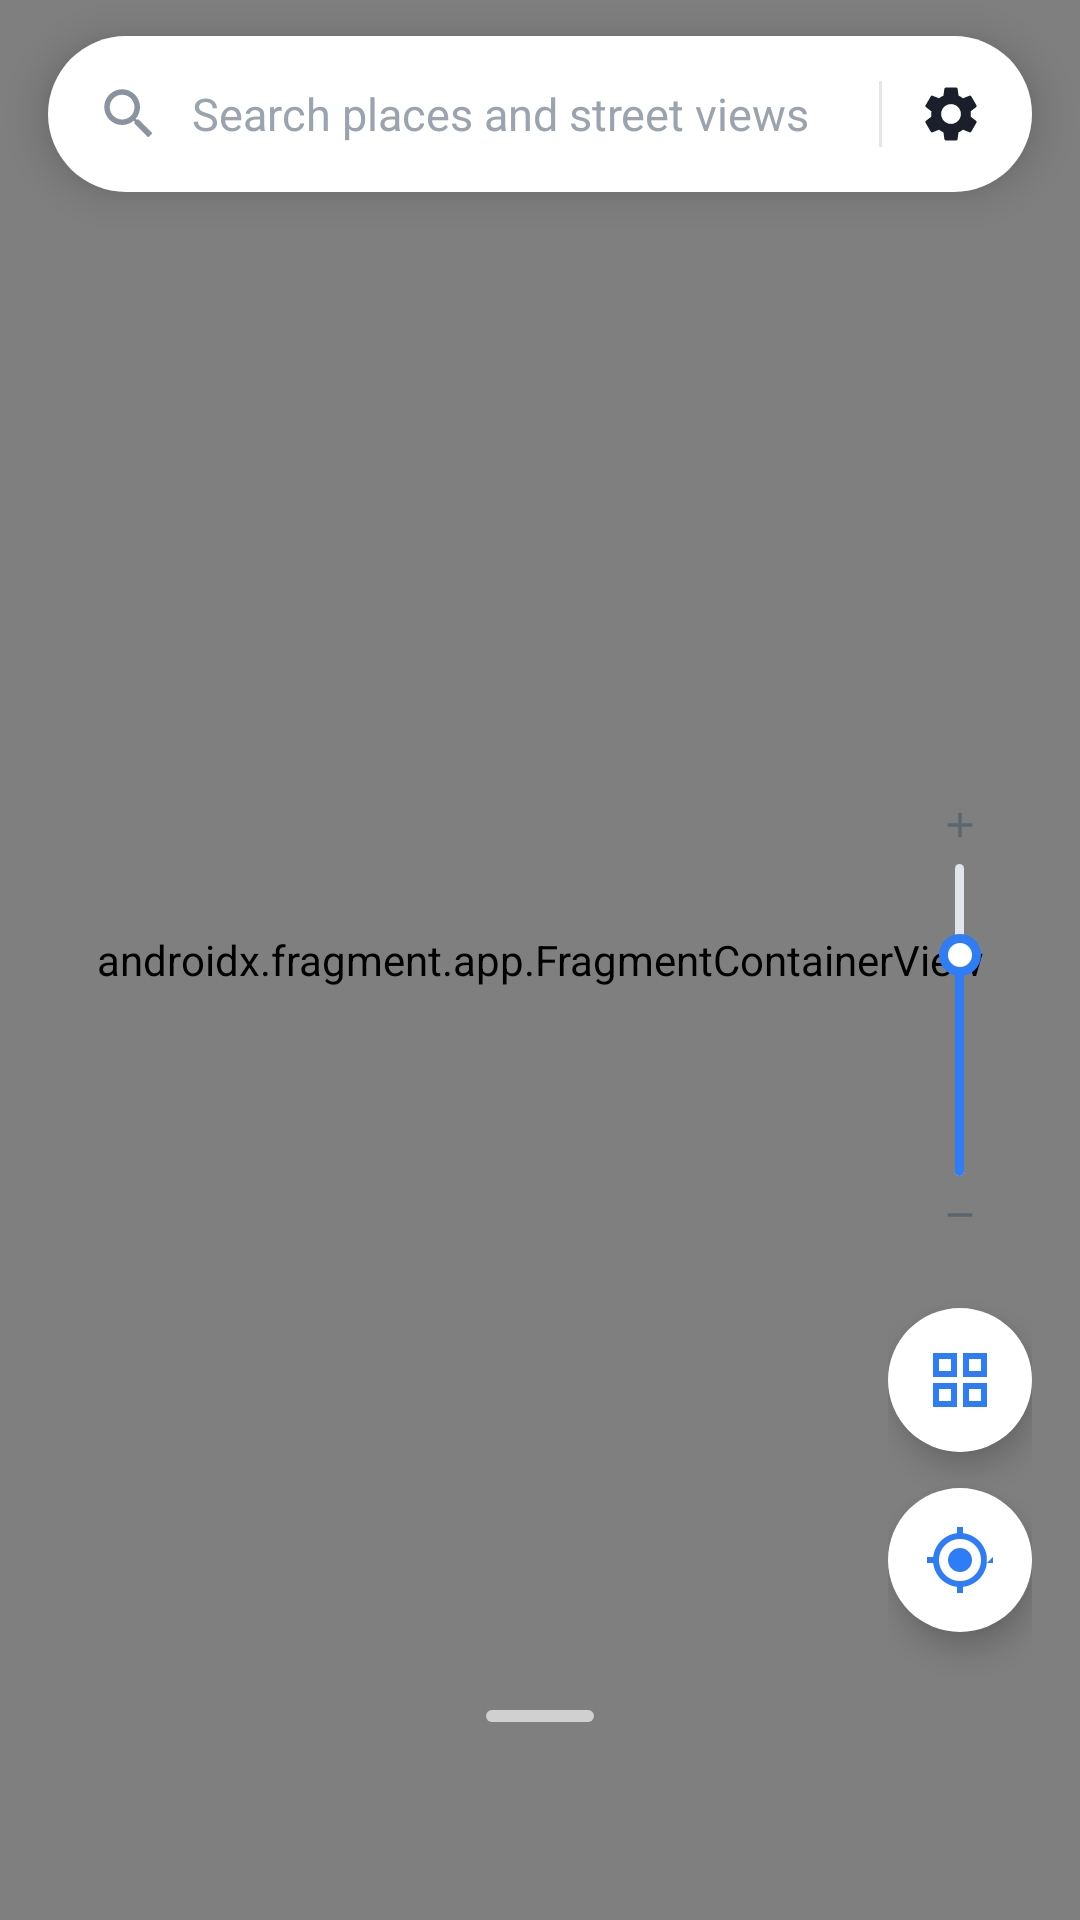

Point at icon controls on the screen. Image size 1080 × 1920, points as (x=x, y=y).
My location: (x=960, y=1560)
Settings: (x=951, y=114)
Switch map type: (x=960, y=1380)
Zoom in: (x=960, y=825)
